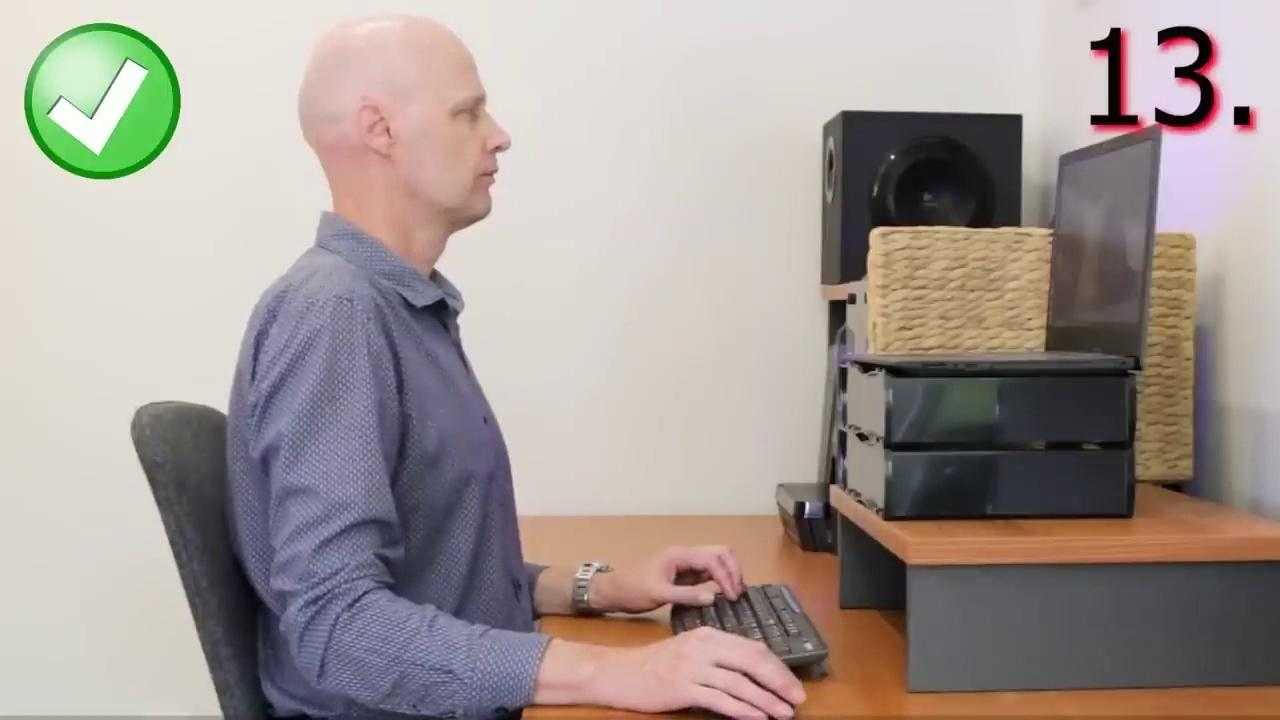GoodPosture: (228, 16, 805, 719)
